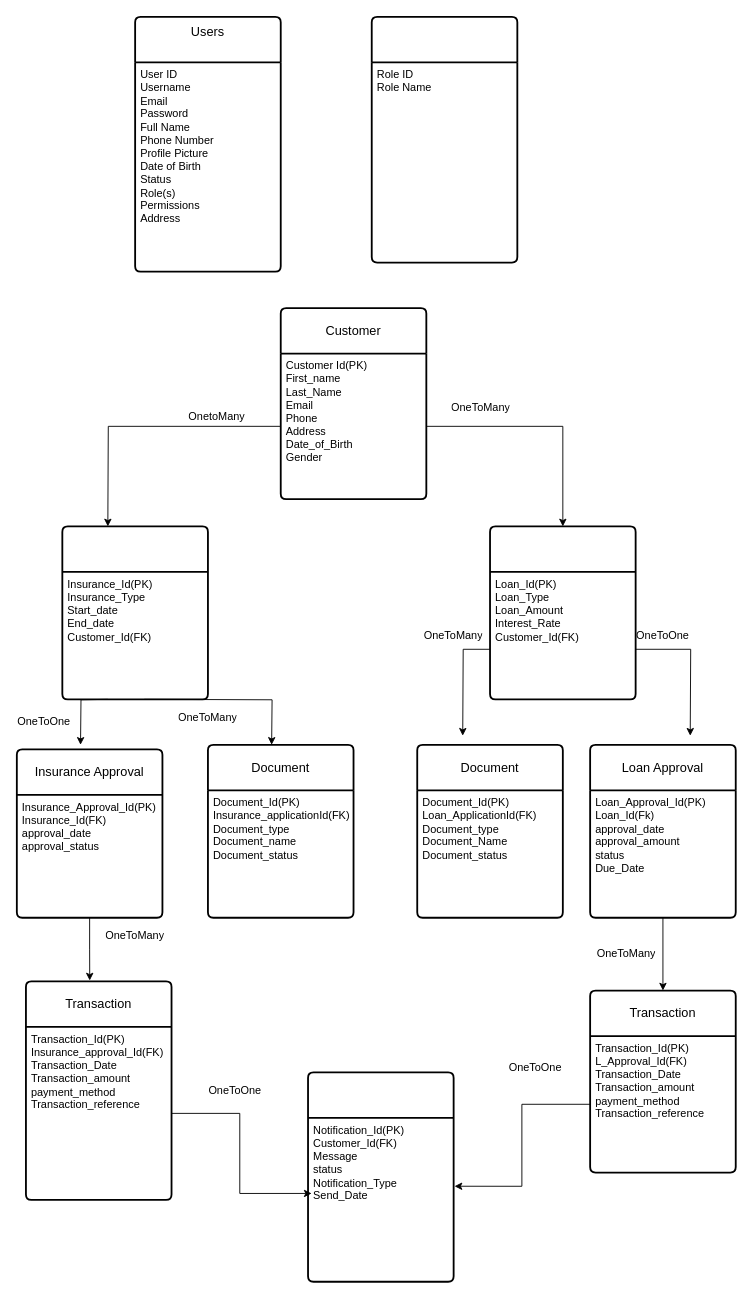
Image size: 752x1298. Some labels were removed from this diagram. Each missing label, with the box of its shape:
Insurance Application: (61, 525, 208, 700)
Loan Application: (489, 525, 636, 700)
Notifications: (307, 1071, 454, 1282)
Roles: (370, 15, 518, 263)
